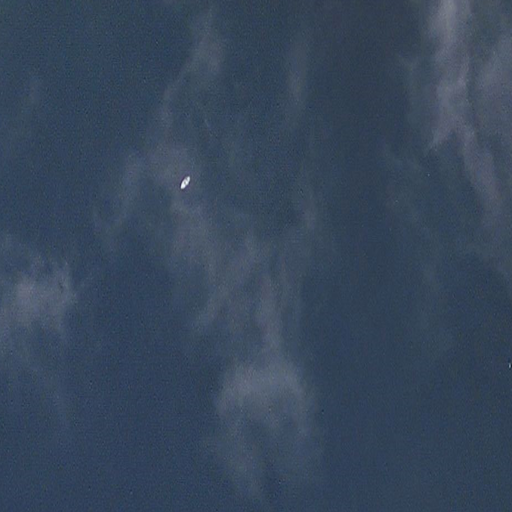ship: (179, 173, 190, 192)
